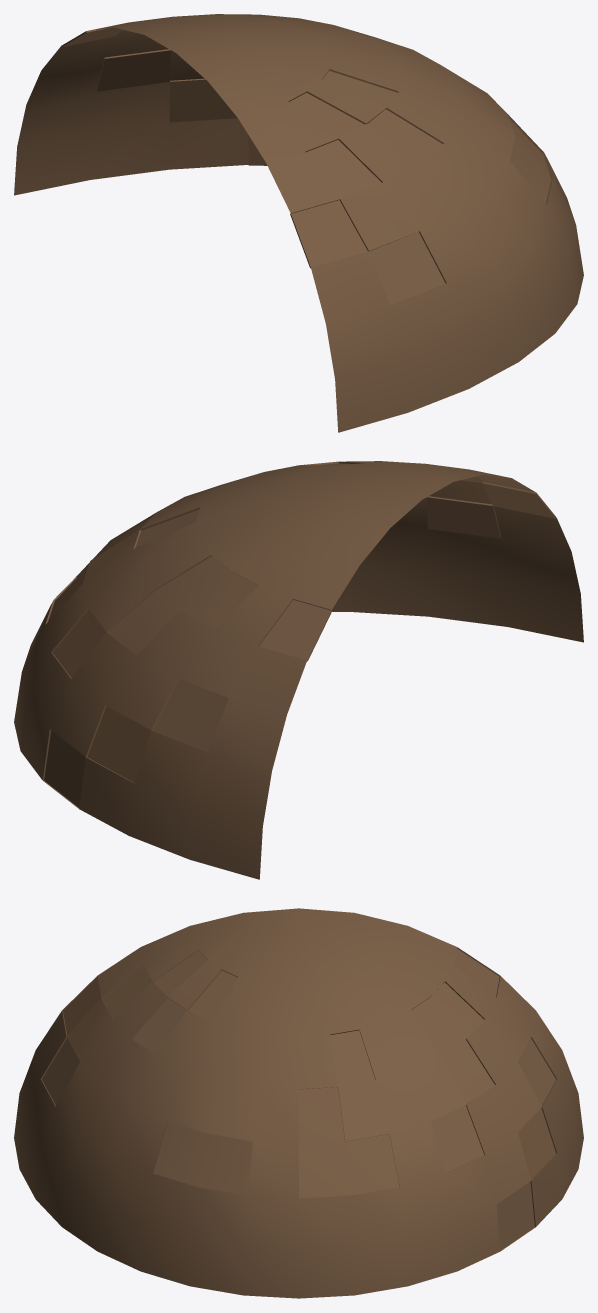
Rendered from Corridor_Cieling_End.fbx.
The picture shows the model from 3 angles, top to bottom: view 1: azimuth 30°, elevation 25°; view 2: azimuth 150°, elevation 25°; view 3: azimuth 270°, elevation 25°; orthographic projection. The views are drawn at different scales.
Visible parts, largest first — view 1: Corridor_Cieling_End; view 2: Corridor_Cieling_End; view 3: Corridor_Cieling_End.
Part boxes in pixels (x1,y1,x2,y2): Corridor_Cieling_End: [14, 14, 583, 432]; Corridor_Cieling_End: [14, 461, 583, 879]; Corridor_Cieling_End: [14, 908, 583, 1298].
Size of the model in its own units: 186 by 124 by 279.
